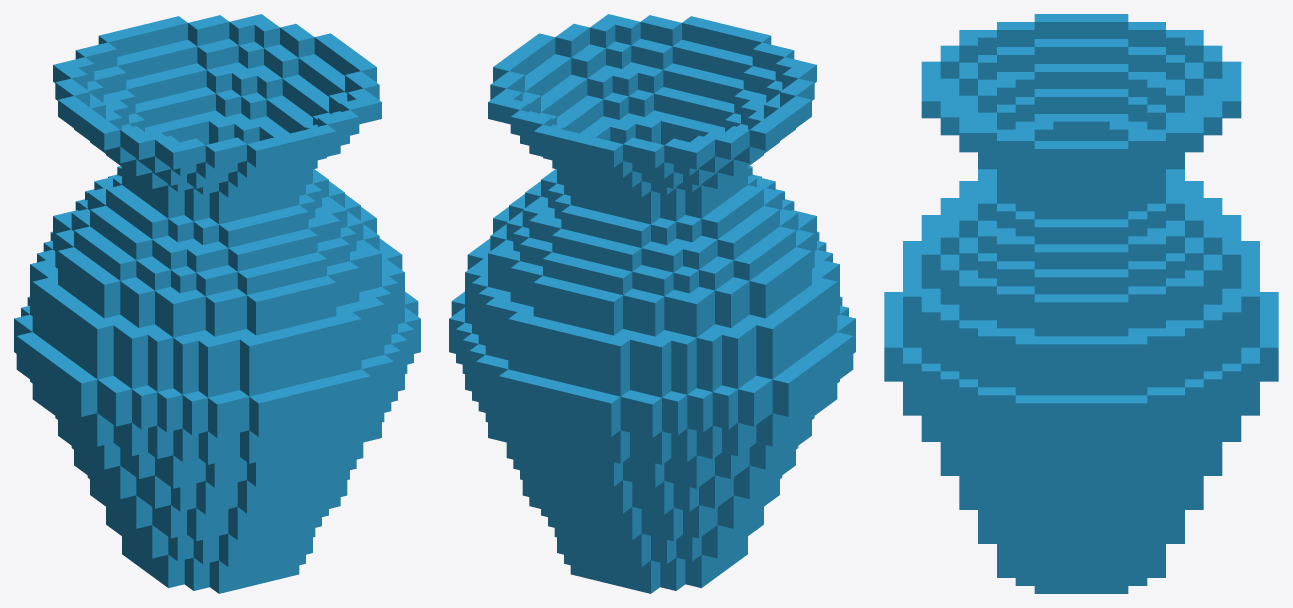
The model's file is Vase.obj.
The picture shows the model from 3 angles, left to right: view 1: azimuth 30°, elevation 25°; view 2: azimuth 150°, elevation 25°; view 3: azimuth 270°, elevation 25°; orthographic projection.
Visible parts, largest first — view 1: Vase; view 2: Vase; view 3: Vase.
Boxes of the visible parts, x1,y1,x2,y2 form: Vase: [14, 14, 420, 593]; Vase: [449, 14, 855, 593]; Vase: [884, 14, 1278, 593].
Bounding box in the file's own units: 21 × 28 × 21.
Materials: 1 (1 with a texture image).
